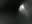person: (20, 4, 26, 15)
